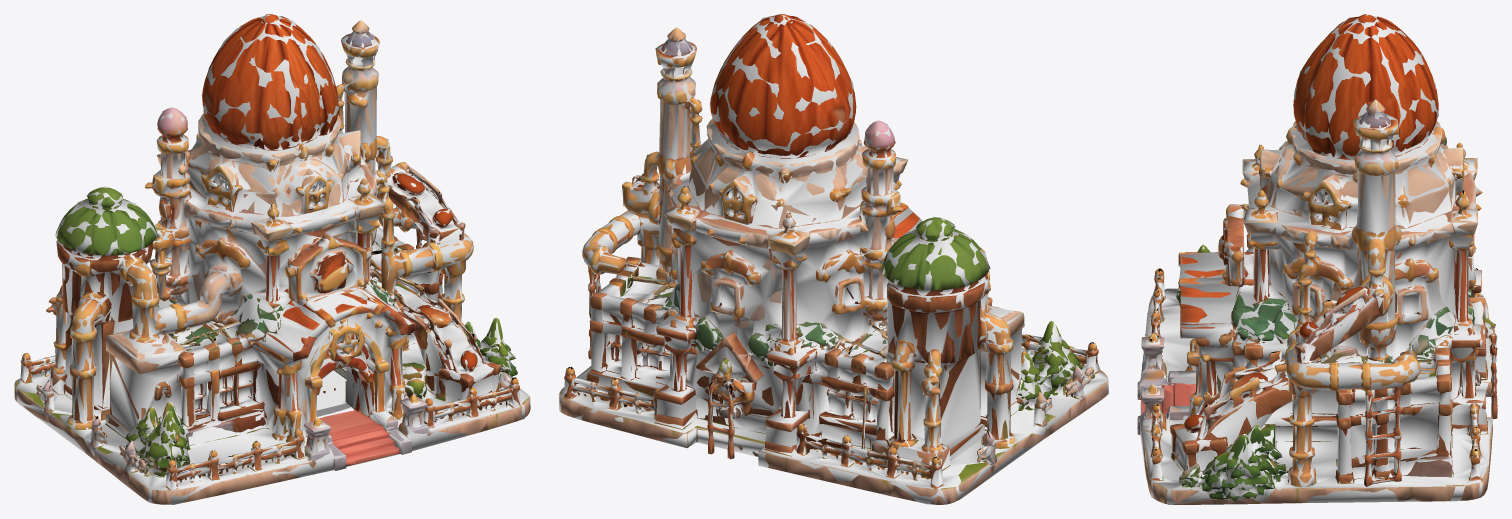
The model's file is HOB_BLD_AlmondFactory.fbx.
3 renders of one model, left to right at view 1: azimuth 30°, elevation 25°; view 2: azimuth 150°, elevation 25°; view 3: azimuth 270°, elevation 25°, orthographic. The views are drawn at different scales.
Visible parts, largest first — view 1: HOB_BLD_AlmondFactory, COL_HOB_BLD_AlmondFactory_Shell, COL_HOB_BLD_AlmondFactory_Room; view 2: HOB_BLD_AlmondFactory, COL_HOB_BLD_AlmondFactory_Shell; view 3: HOB_BLD_AlmondFactory, COL_HOB_BLD_AlmondFactory_Shell.
Boxes of the visible parts, x1,y1,x2,y2 form: HOB_BLD_AlmondFactory: (14, 14, 529, 504); COL_HOB_BLD_AlmondFactory_Shell: (14, 14, 530, 504); COL_HOB_BLD_AlmondFactory_Room: (316, 366, 395, 466); HOB_BLD_AlmondFactory: (559, 14, 1107, 504); COL_HOB_BLD_AlmondFactory_Shell: (559, 15, 1108, 504); HOB_BLD_AlmondFactory: (1137, 14, 1497, 504); COL_HOB_BLD_AlmondFactory_Shell: (1138, 14, 1497, 504).
Size of the model in its own units: 5569 by 5002 by 4070.
